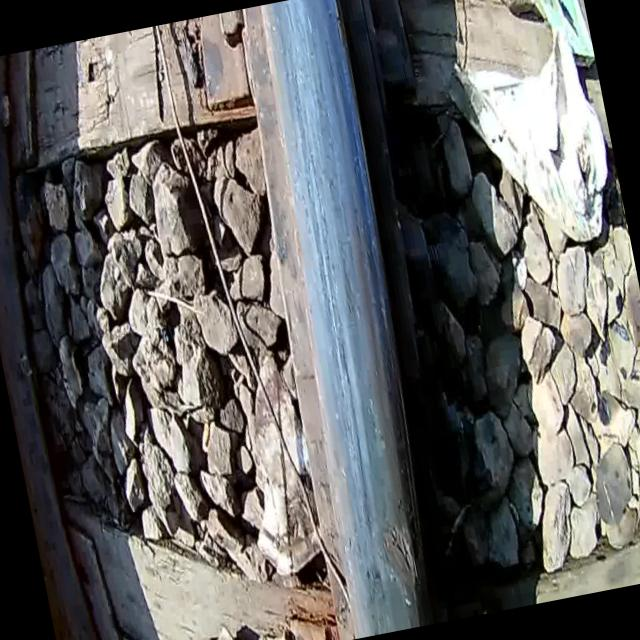Squats: (205, 0, 480, 640)
